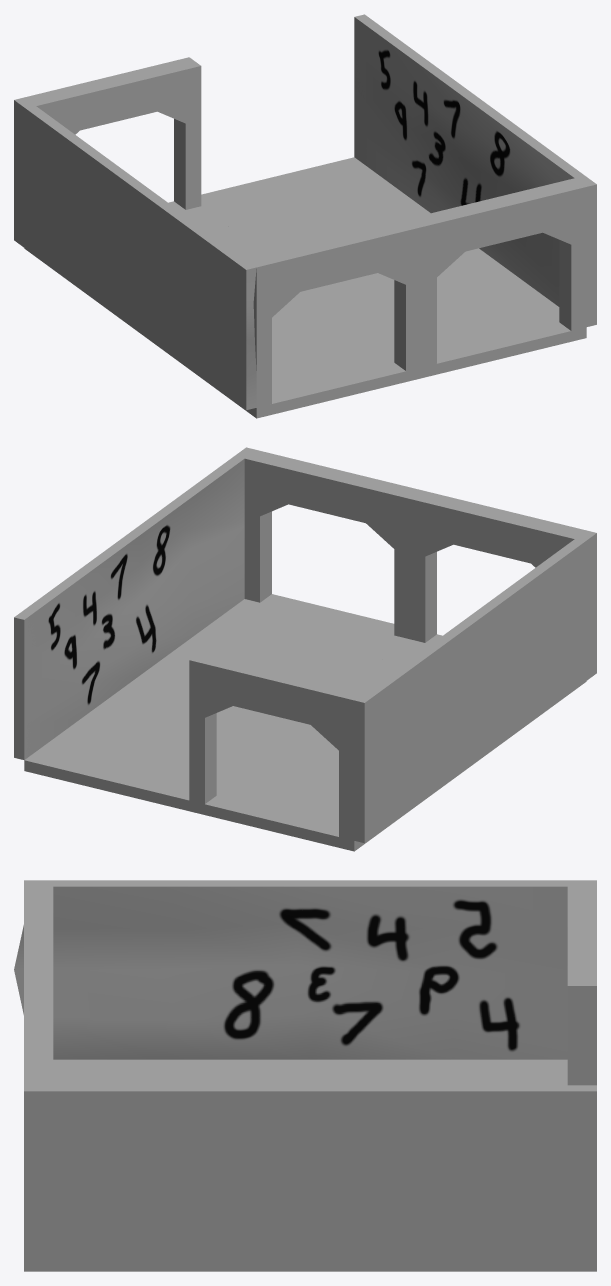
The model's file is NumWallsLevelJam.fbx.
3 renders of one model, top to bottom at view 1: azimuth 30°, elevation 25°; view 2: azimuth 150°, elevation 25°; view 3: azimuth 270°, elevation 25°, orthographic. The views are drawn at different scales.
Parts seen in each view (by area): view 1: Room; view 2: Room; view 3: Room.
Part boxes in pixels (x1,y1,x2,y2): Room: (14, 14, 596, 418); Room: (14, 447, 596, 851); Room: (14, 880, 596, 1271).
Bounding box in the file's own units: 3400 × 1400 × 3969.
